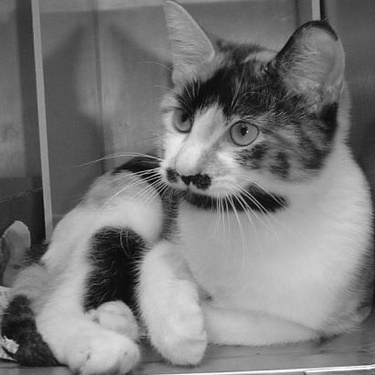cat: (3, 1, 369, 372)
